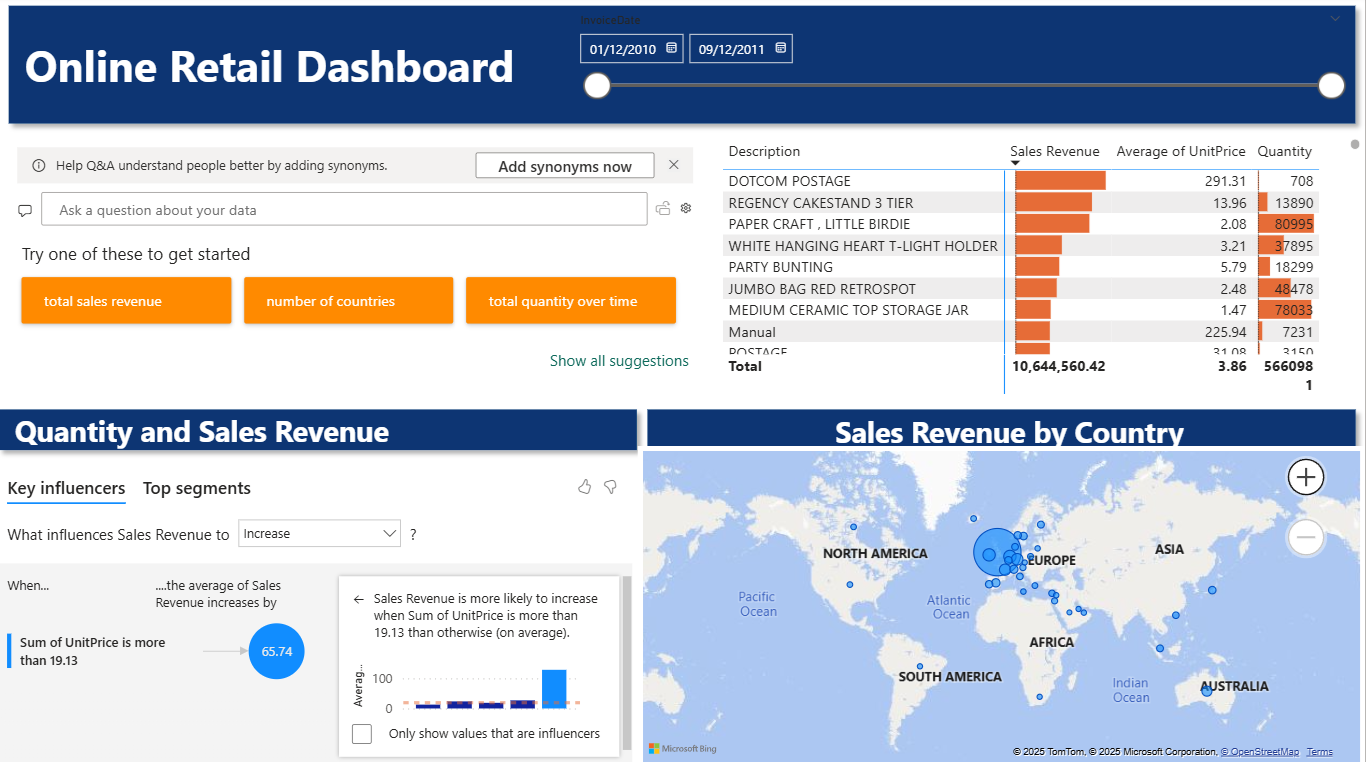

What the dashboard file says about the page in this screenshot:
{"tool":"powerbi","page":{"name":"Dashboard","canvas":[1280,720],"ordinal":0},"visuals":[{"type":"shape","box":[0,8,1280,112],"z":0},{"type":"shape","box":[0,376,608,56],"z":1000},{"type":"qnaVisual","box":[0,120,608,248],"z":2000},{"type":"shape","box":[600,376,680,56],"z":3000},{"type":"azureMap","fields":{"Category":["Online Retail.Country"],"Size":["Sum(Online Retail.Sales Revenue)"]},"box":[608,432,672,288],"z":4000},{"type":"pivotTable","fields":{"Rows":["Online Retail.Description"],"Values":["Sum(Online Retail.Sales Revenue)","Avg(Online Retail.UnitPrice)","Sum(Online Retail.Quantity)"]},"box":[608,120,672,248],"z":5000},{"type":"keyDriversVisual","fields":{"Target":["Online Retail.Sales Revenue"],"ExplainBy":["Sum(Online Retail.UnitPrice)"]},"box":[0,432,600,288],"z":6000},{"type":"slicer","fields":{"Values":["Online Retail.InvoiceDate"]},"box":[600,16,672,96],"z":7000}]}

Visuals, with their boxes in screenshot pixels (x1, y1, x2, y2), scaled from the page's 1280x720 canvas onto the 1366x762 screenshot:
shape: <region>0, 8, 1365, 127</region>
shape: <region>0, 398, 649, 457</region>
qnaVisual: <region>0, 127, 649, 389</region>
shape: <region>640, 398, 1365, 457</region>
azureMap - Online Retail.Country x Sum(Online Retail.Sales Revenue): <region>649, 457, 1365, 761</region>
pivotTable - Online Retail.Description x Sum(Online Retail.Sales Revenue): <region>649, 127, 1365, 389</region>
keyDriversVisual - Online Retail.Sales Revenue x Sum(Online Retail.UnitPrice): <region>0, 457, 640, 761</region>
slicer - Online Retail.InvoiceDate: <region>640, 17, 1357, 119</region>
